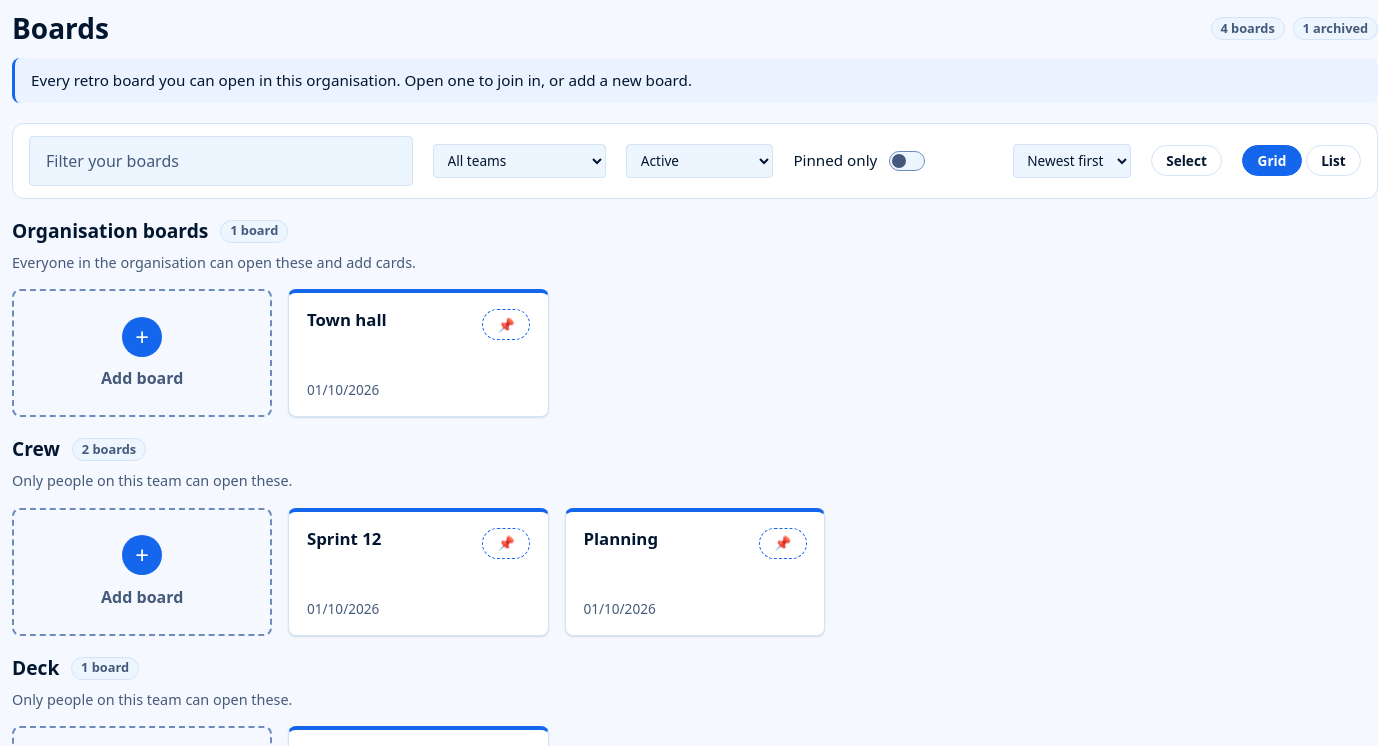
Test: OrgBoardsPage › filters the boards by title and drops the sections without a match
In the search field labelled "Filter your boards": [221, 161] box left=29, top=136, right=413, bottom=186, type "launch"
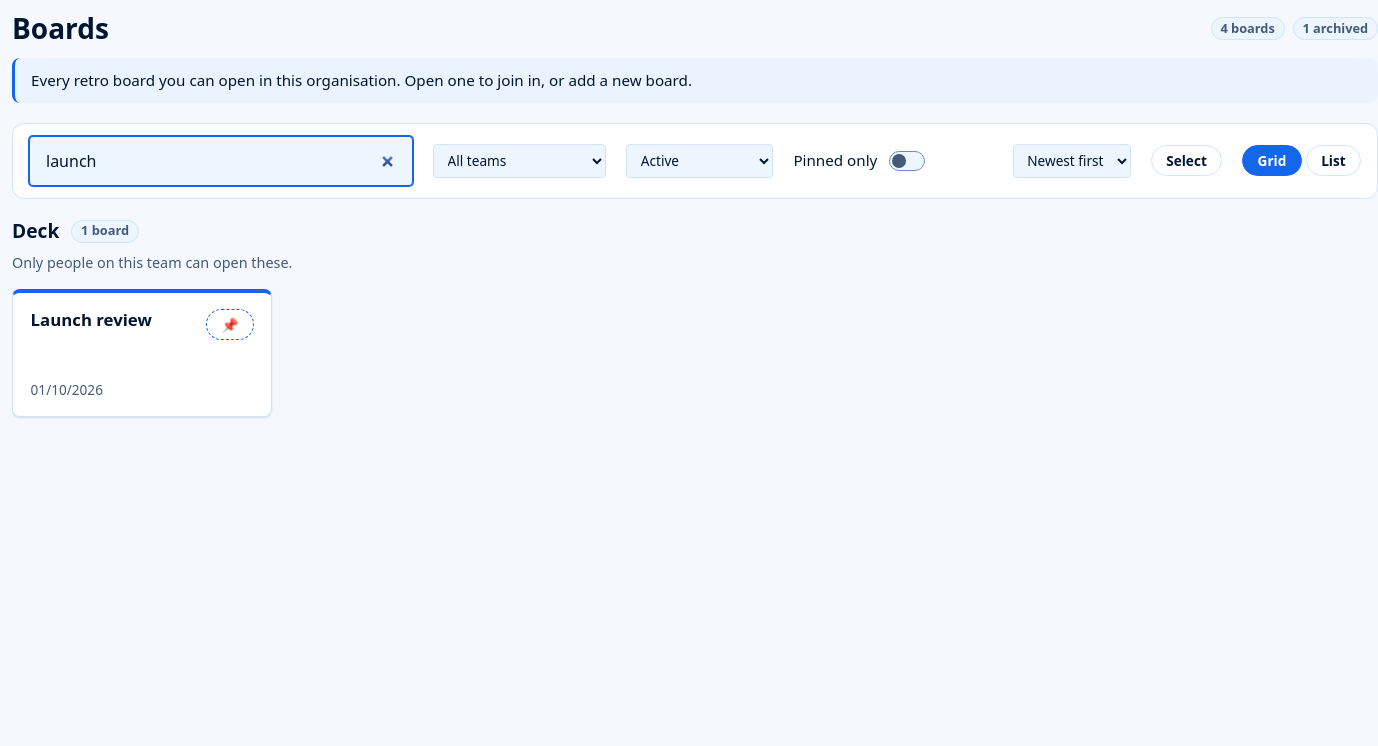
Expected: the link "Add board" is gone
